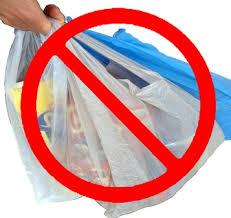Plastic bag: (9, 8, 231, 218)
